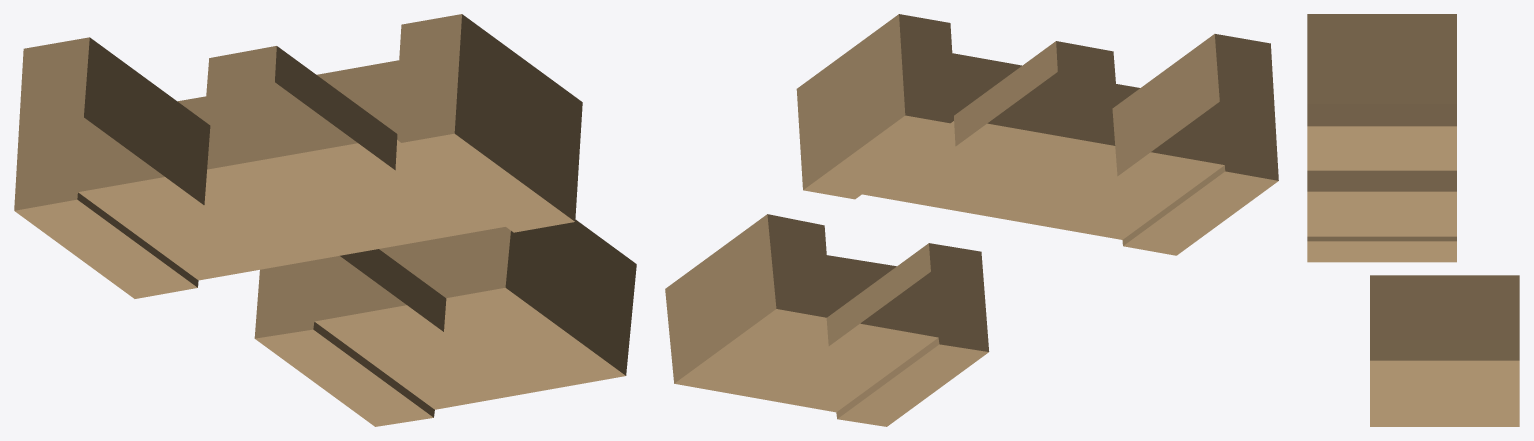
3 renders of one model, left to right at view 1: azimuth 30°, elevation 25°; view 2: azimuth 150°, elevation 25°; view 3: azimuth 270°, elevation 25°, orthographic. The views are drawn at different scales.
Parts seen in each view (by area): view 1: 0_0_2_0_1_1_1_0; view 2: 0_0_2_0_1_1_1_0; view 3: 0_0_2_0_1_1_1_0.
Boxes of the visible parts, x1,y1,x2,y2 form: 0_0_2_0_1_1_1_0: (14, 14, 636, 426); 0_0_2_0_1_1_1_0: (665, 14, 1278, 426); 0_0_2_0_1_1_1_0: (1307, 14, 1519, 426).
Size of the model in its own units: 55.54 by 38.99 by 29.8.
